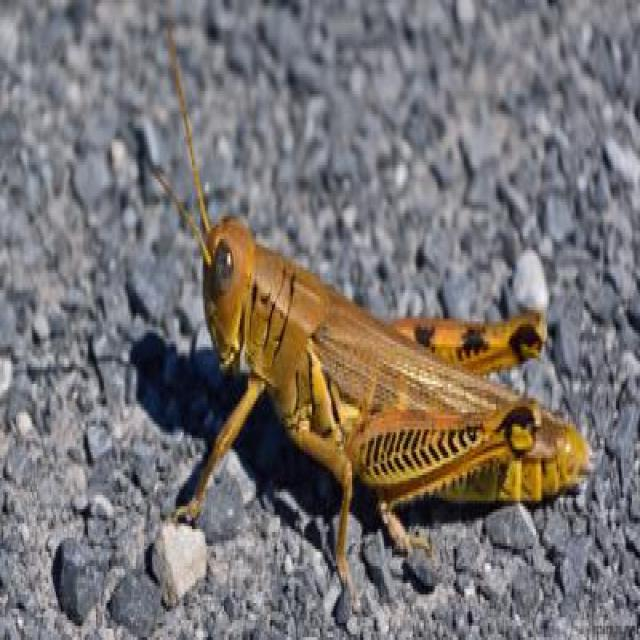antennae: (166, 25, 212, 231), (146, 153, 210, 268)
body: (198, 220, 578, 491)
insect: (145, 21, 592, 583)
legs: (328, 403, 539, 559), (280, 365, 353, 582), (177, 376, 271, 524), (384, 309, 552, 374)
mouthpart: (206, 323, 241, 378)
wings: (300, 298, 566, 450)
